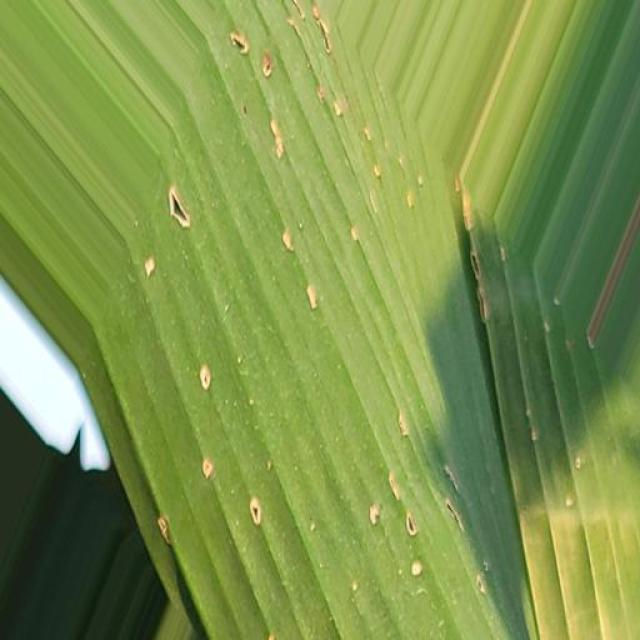Black_rot: (123, 3, 589, 628)
